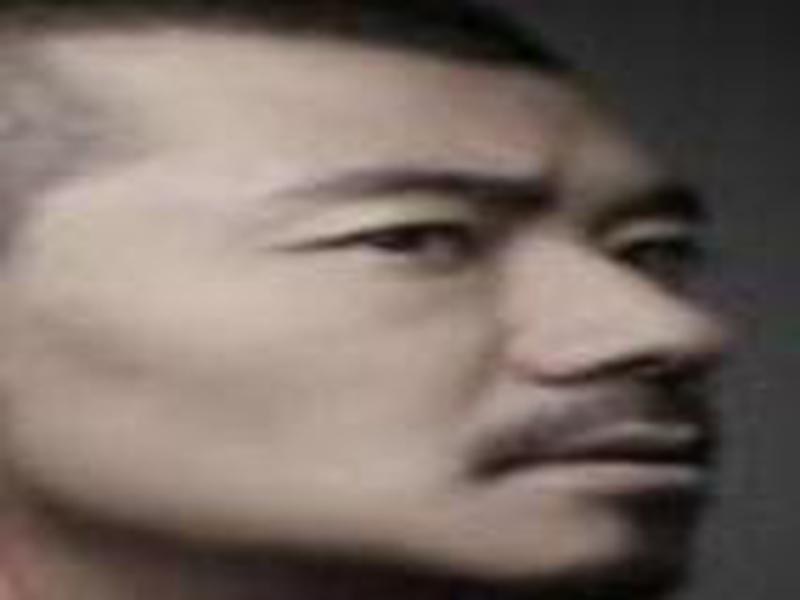without_mask: (36, 29, 748, 600)
